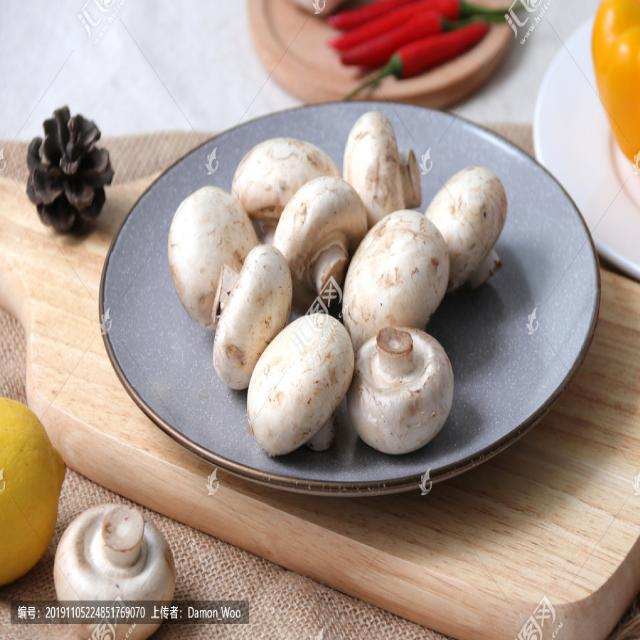Agaricus bisporus: (345, 328, 468, 451), (242, 312, 348, 451), (346, 201, 452, 331), (170, 162, 248, 332), (422, 168, 520, 300), (270, 174, 356, 286)
